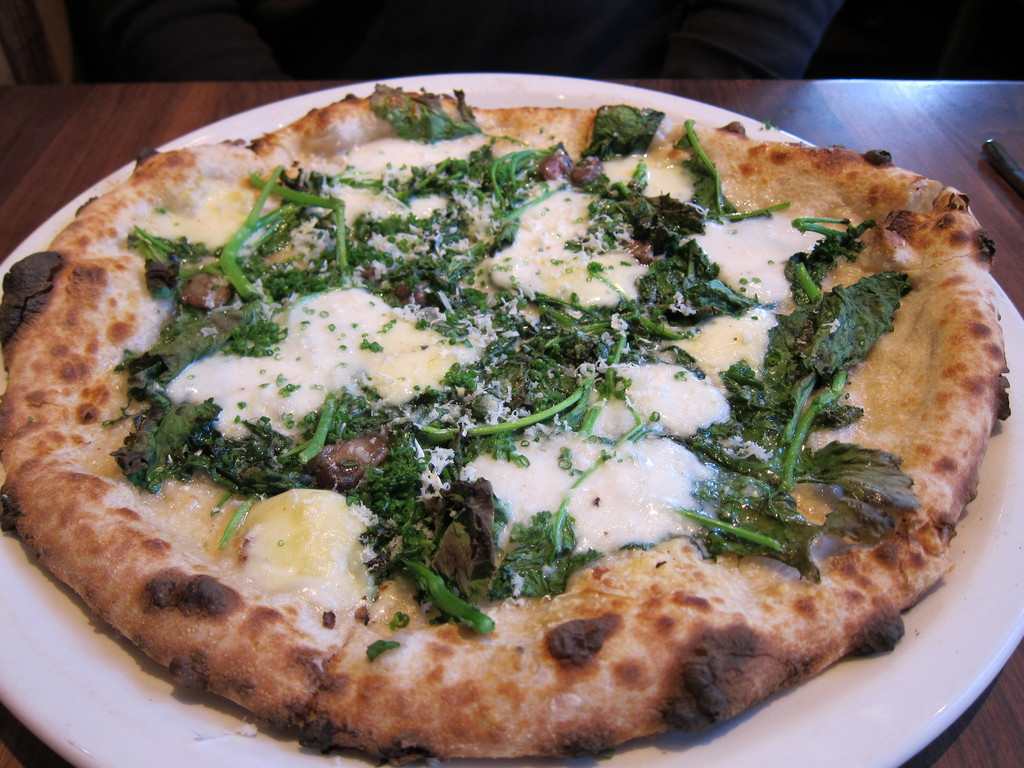Pizza: (0, 80, 1013, 764)
